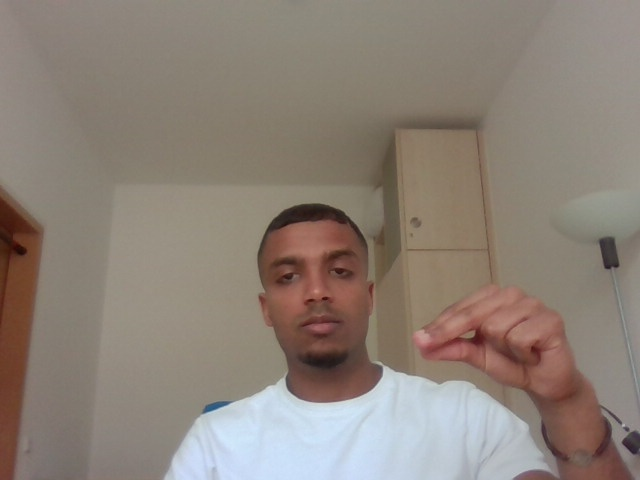no: (404, 263, 607, 409)
